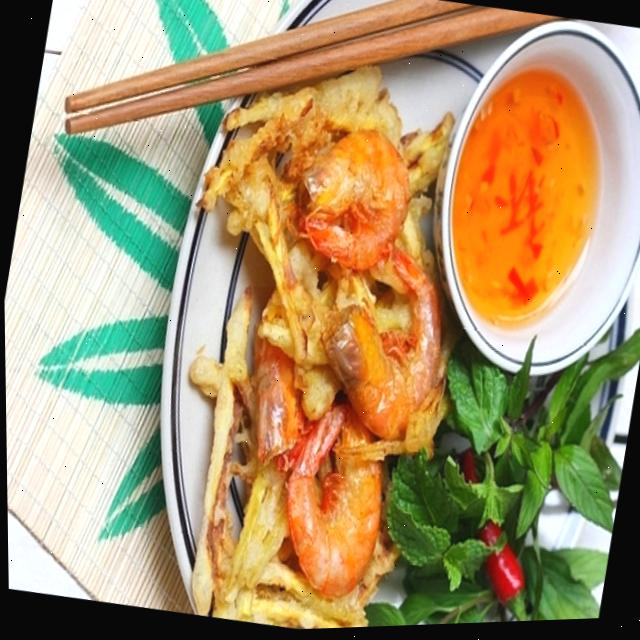炸货点心: (76, 0, 553, 638)
熟制海鲜: (76, 0, 553, 638)
